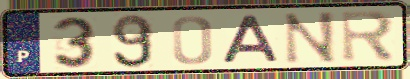0: (170, 14, 215, 66)
3: (50, 15, 99, 71)
9: (110, 12, 157, 70)
A: (220, 13, 283, 65)
N: (282, 10, 338, 66)
R: (339, 9, 398, 65)
